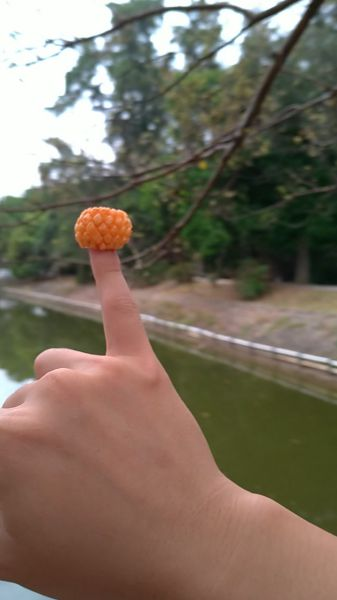eggs: (73, 206, 132, 251)
